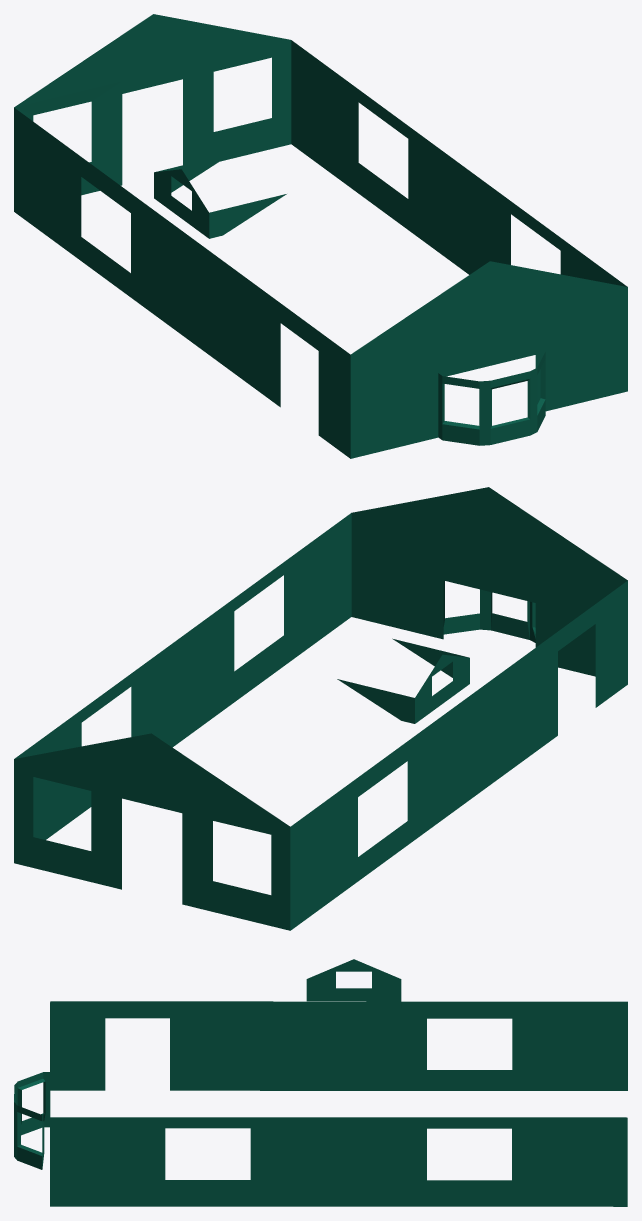
Rendered from casa5.obj.
The picture shows the model from 3 angles, top to bottom: view 1: azimuth 30°, elevation 25°; view 2: azimuth 150°, elevation 25°; view 3: azimuth 270°, elevation 25°; orthographic projection. The views are drawn at different scales.
Parts seen in each view (by area): view 1: Cube.026; view 2: Cube.026; view 3: Cube.026.
Part boxes in pixels (x1,y1,x2,y2): Cube.026: (14, 14, 627, 458); Cube.026: (14, 487, 627, 930); Cube.026: (14, 959, 627, 1206).
Size of the model in its own units: 10.81 by 6.09 by 24.17.
